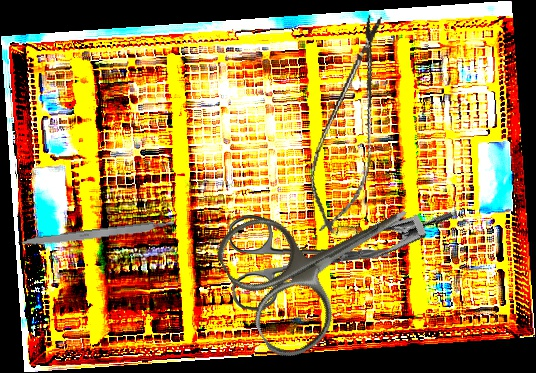Iris Scissors: (209, 151, 441, 367), (228, 207, 395, 313)
Micro Scissor: (299, 9, 401, 239)
Scalpel Handle: (17, 219, 176, 250)
Speculum: (322, 168, 456, 285)
